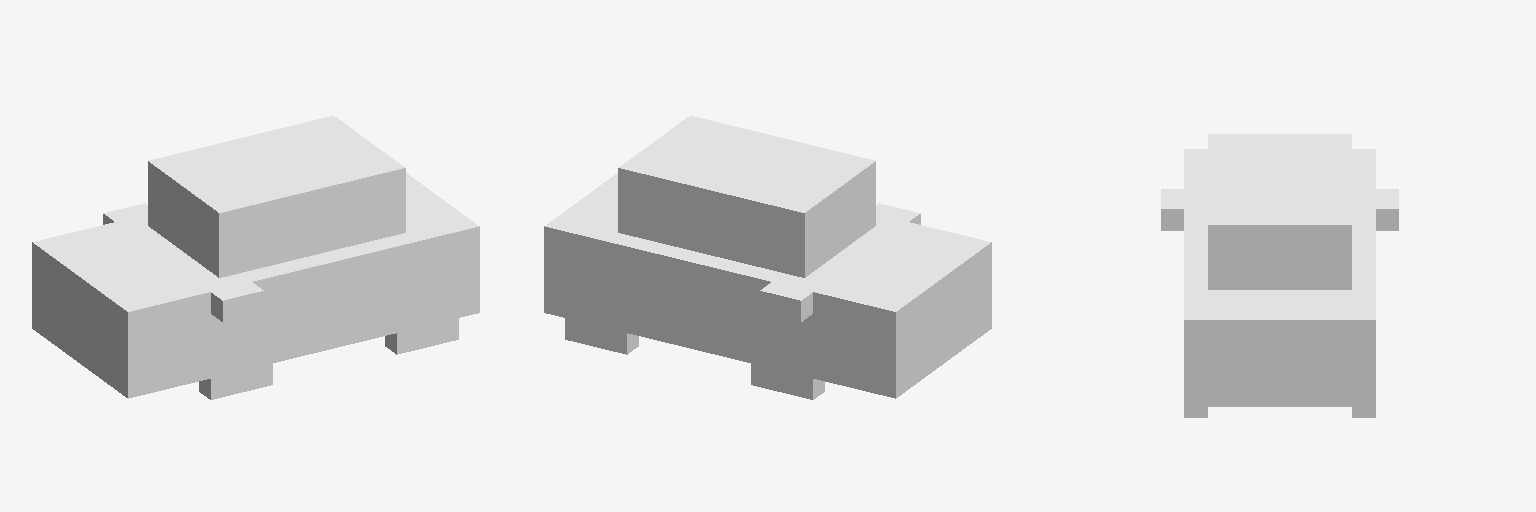
The model's file is CrossyCar02.obj.
The picture shows the model from 3 angles: view 1: azimuth 30°, elevation 25°; view 2: azimuth 150°, elevation 25°; view 3: azimuth 270°, elevation 25°; orthographic projection.
Visible parts, largest first — view 1: object 1; view 2: object 1; view 3: object 1.
Part boxes in pixels (bbox=[...]): object 1: bbox=[32, 116, 479, 399]; object 1: bbox=[544, 116, 991, 399]; object 1: bbox=[1161, 134, 1398, 417].
Bounding box in the file's own units: 1.7 × 0.8 × 1.